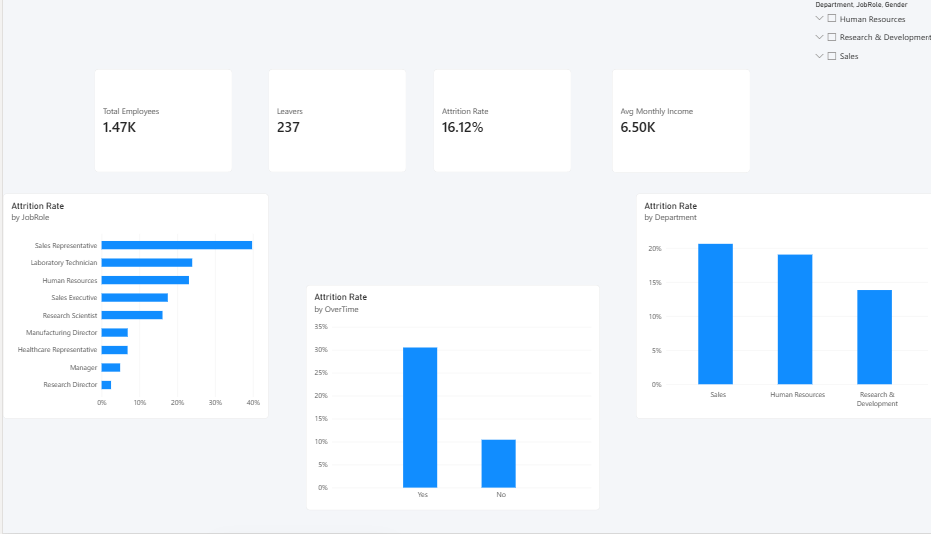

What the dashboard file says about the page in this screenshot:
{"tool":"powerbi","page":{"name":"Executive Overview","canvas":[1920,1080],"ordinal":0},"visuals":[{"type":"cardVisual","fields":{"Data":["employees.Total Employees"]},"box":[10,0,280,280],"z":0},{"type":"cardVisual","fields":{"Data":["employees.Leavers"]},"box":[288.9,0,280,280],"z":1},{"type":"cardVisual","fields":{"Data":["employees.Attrition Rate"]},"box":[568.9,0,280,280],"z":2},{"type":"cardVisual","fields":{"Data":["employees.Avg Monthly Income"]},"box":[848.8,68.5,280,210],"z":3},{"type":"barChart","fields":{"Category":["employees.JobRole"],"Y":["employees.Attrition Rate"]},"box":[10,290,280,280],"z":4},{"type":"columnChart","fields":{"Category":["employees.OverTime"],"Y":["employees.Attrition Rate"]},"box":[10,580,280,280],"z":5},{"type":"columnChart","fields":{"Category":["employees.Department"],"Y":["employees.Attrition Rate"]},"box":[390.2,509.3,280,351.4],"z":6},{"type":"slicer","fields":{"Values":["employees.Department","employees.JobRole","employees.Gender"]},"box":[1322.4,151.9,280,104.2],"z":7}]}

Visuals, with their boxes on the page's 1920x1080 design canvas (x1, y1, x2, y2). These are canvas units, not pixel positions in the 931x534 screenshot, which may show the page scaled, cropped or inside an application window:
cardVisual - employees.Total Employees: [10,0,290,280]
cardVisual - employees.Leavers: [289,0,569,280]
cardVisual - employees.Attrition Rate: [569,0,849,280]
cardVisual - employees.Avg Monthly Income: [849,68,1129,278]
barChart - employees.JobRole x employees.Attrition Rate: [10,290,290,570]
columnChart - employees.OverTime x employees.Attrition Rate: [10,580,290,860]
columnChart - employees.Department x employees.Attrition Rate: [390,509,670,861]
slicer - employees.Department x employees.JobRole: [1322,152,1602,256]
